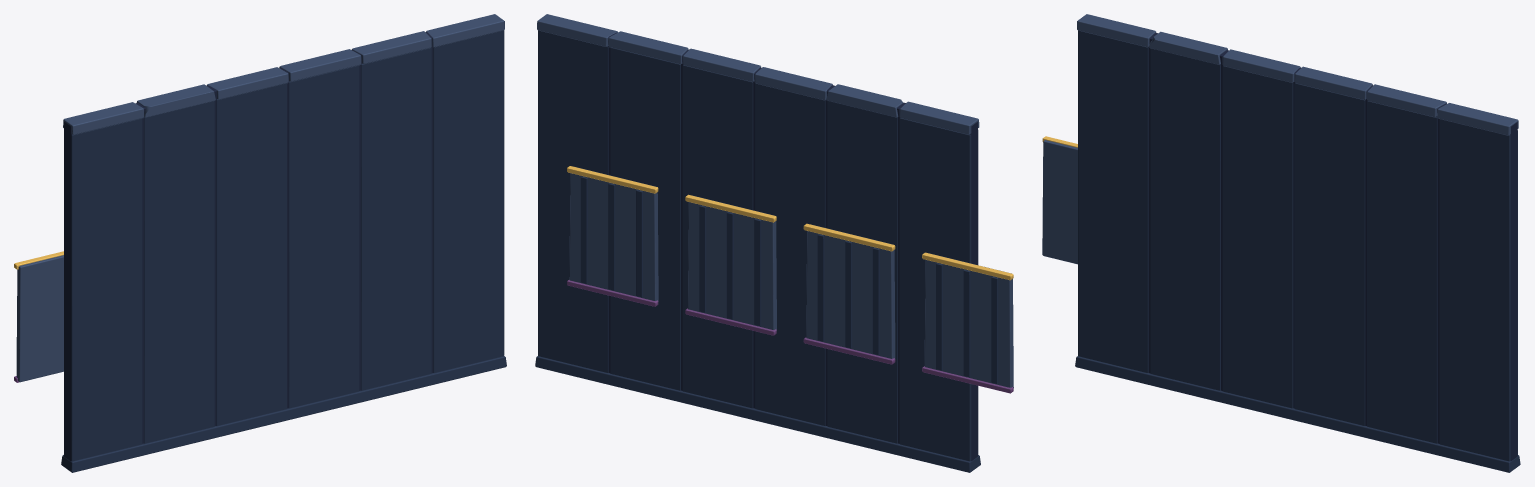
File: wall_southwall2.glb
3 renders of one model, left to right at view 1: azimuth 30°, elevation 25°; view 2: azimuth 150°, elevation 25°; view 3: azimuth 330°, elevation 25°, orthographic.
Parts seen in each view (by area): view 1: wall_southwall2; view 2: wall_southwall2; view 3: wall_southwall2.
Boxes of the visible parts, box(x1,y1,x2,y2) form: wall_southwall2: box(14, 14, 506, 472); wall_southwall2: box(535, 14, 1013, 472); wall_southwall2: box(1042, 14, 1520, 472).
Bounding box in the file's own units: 12.15 × 8.41 × 0.6391.
